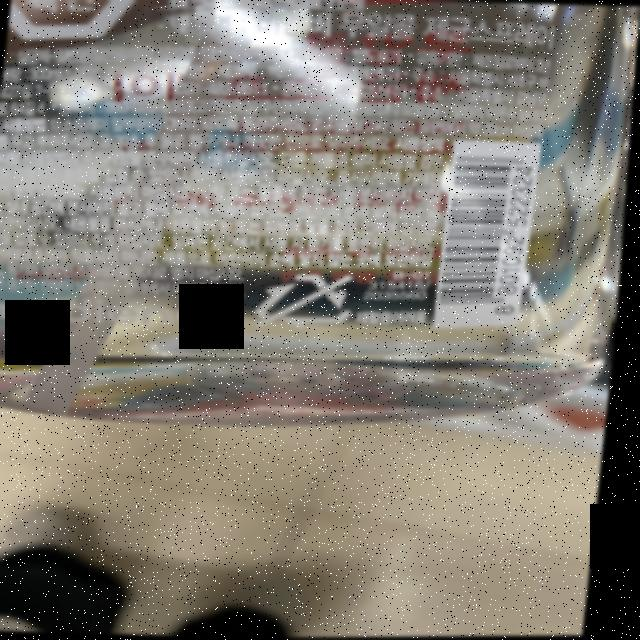NoRecycle: (254, 268, 365, 334)
